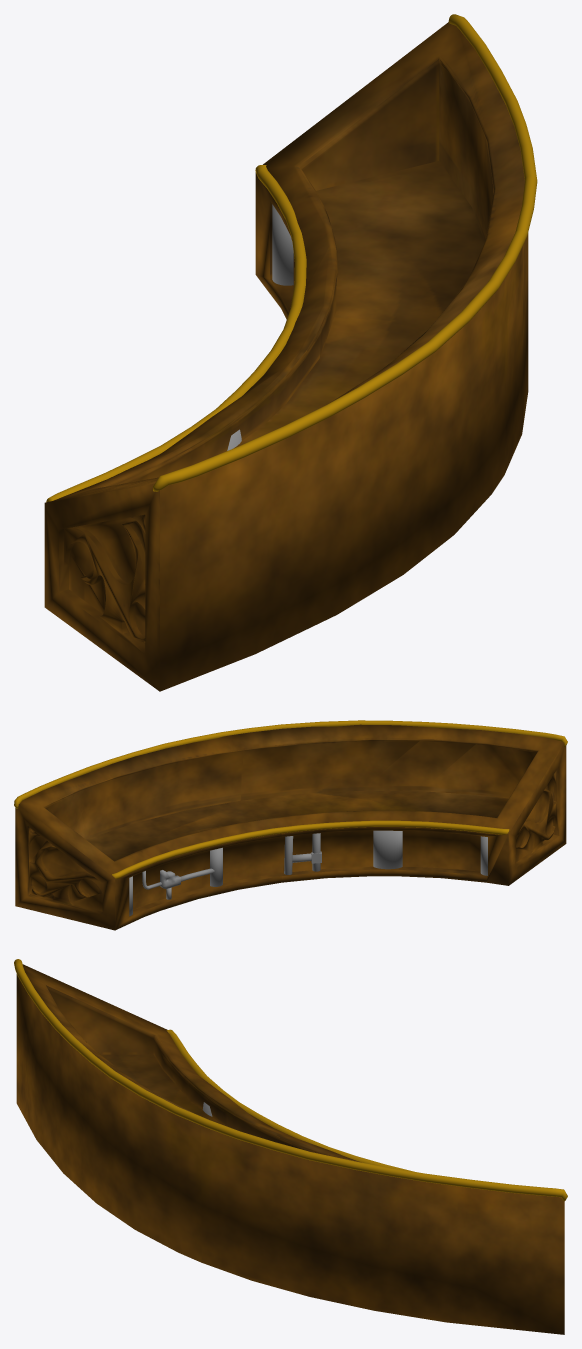
Rendered from Metalsheet typewriter case 4.0.glb.
3 views of the same model, one above another, from view 1: azimuth 30°, elevation 25°; view 2: azimuth 150°, elevation 25°; view 3: azimuth 270°, elevation 25° (orthographic). The views are drawn at different scales.
Visible parts, largest first — view 1: Keysspace 2.0 stl, Circle.007, Circle.006, Circle; view 2: Keysspace 2.0 stl, Circle.007, Circle.006, Circle.008, Cube.003, Circle.002, Circle.005, Circle.001; view 3: Keysspace 2.0 stl, Circle.007, Circle.006.
Boxes of the visible parts, left/top/right/bottom form: Keysspace 2.0 stl: left=44, top=22, right=528, bottom=691; Circle.007: left=153, top=14, right=537, bottom=491; Circle.006: left=46, top=165, right=306, bottom=502; Circle: left=272, top=204, right=293, bottom=285; Keysspace 2.0 stl: left=15, top=724, right=566, bottom=930; Circle.007: left=14, top=720, right=567, bottom=808; Circle.006: left=112, top=820, right=509, bottom=878; Circle.008: left=373, top=830, right=402, bottom=869; Cube.003: left=142, top=868, right=214, bottom=899; Circle.002: left=210, top=847, right=222, bottom=886; Circle.005: left=284, top=836, right=293, bottom=874; Circle.001: left=480, top=836, right=487, bottom=875; Keysspace 2.0 stl: left=16, top=964, right=564, bottom=1334; Circle.007: left=14, top=959, right=567, bottom=1200; Circle.006: left=166, top=1029, right=413, bottom=1171.
Bounding box in the file's own units: 52.73 × 15.29 × 52.68.
Materials: 3 (2 with a texture image).
